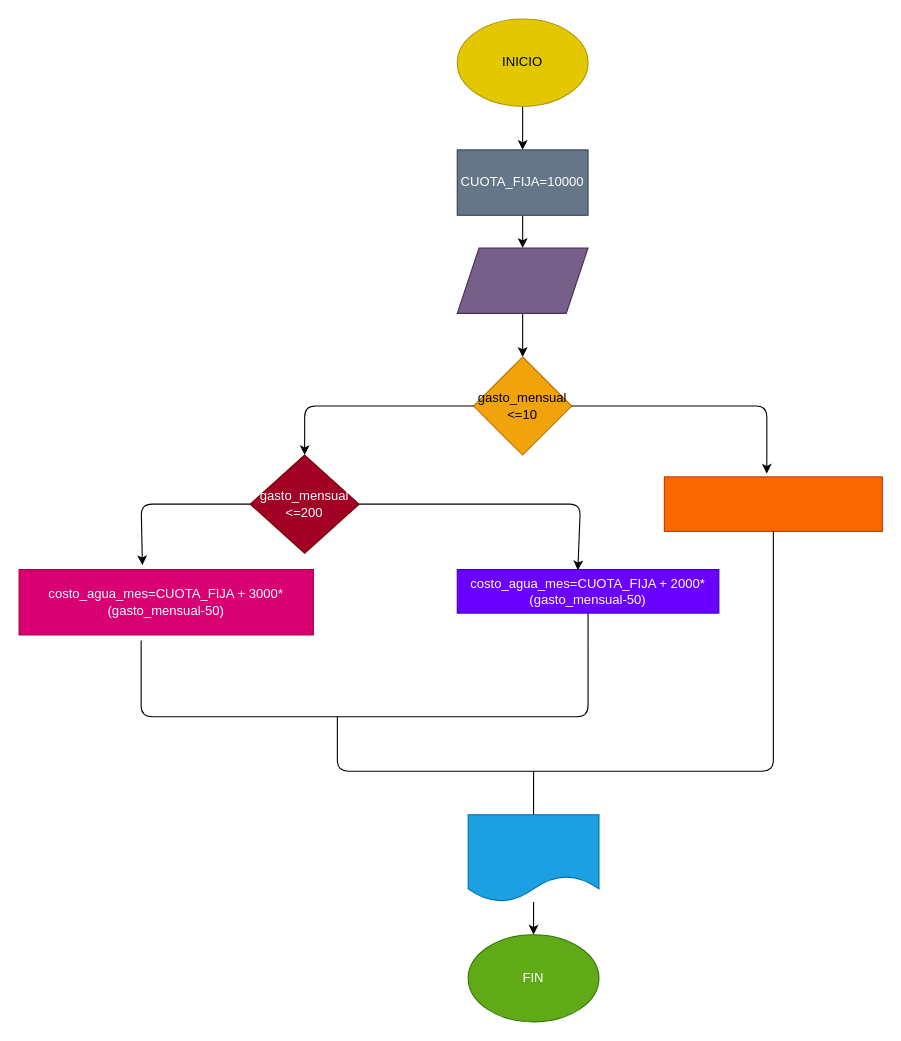
The diagram is 901 pixels wide and 1041 high, and some of its shapes have lost their labels. The shapes that lost their labels are listed below. From the top down, each one's box as (x1, y1, x2, y2) in pixels, then its label:
(456, 247, 588, 313): gasto_mensual
(663, 476, 882, 531): costo_agua_mes=CUOTA_FIJA
(467, 814, 599, 902): gasto_agua_mes
